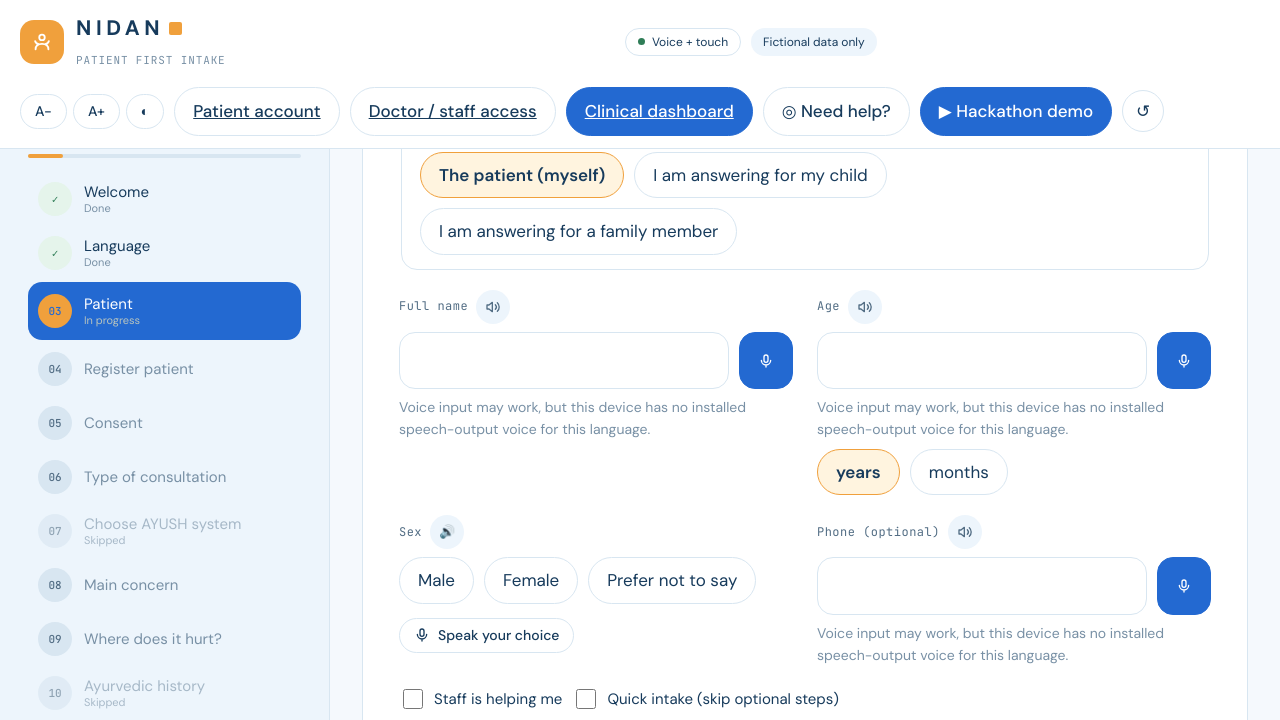
privacy: voice only after the patient is told where audio goes › asks first, declining keeps the mic off
(page scrolled)
What coordinates should you click on to do the following:
click the 1st button with class "mic-btn"
I would click on:
 (766, 361)
Its box is [739, 332, 793, 390].
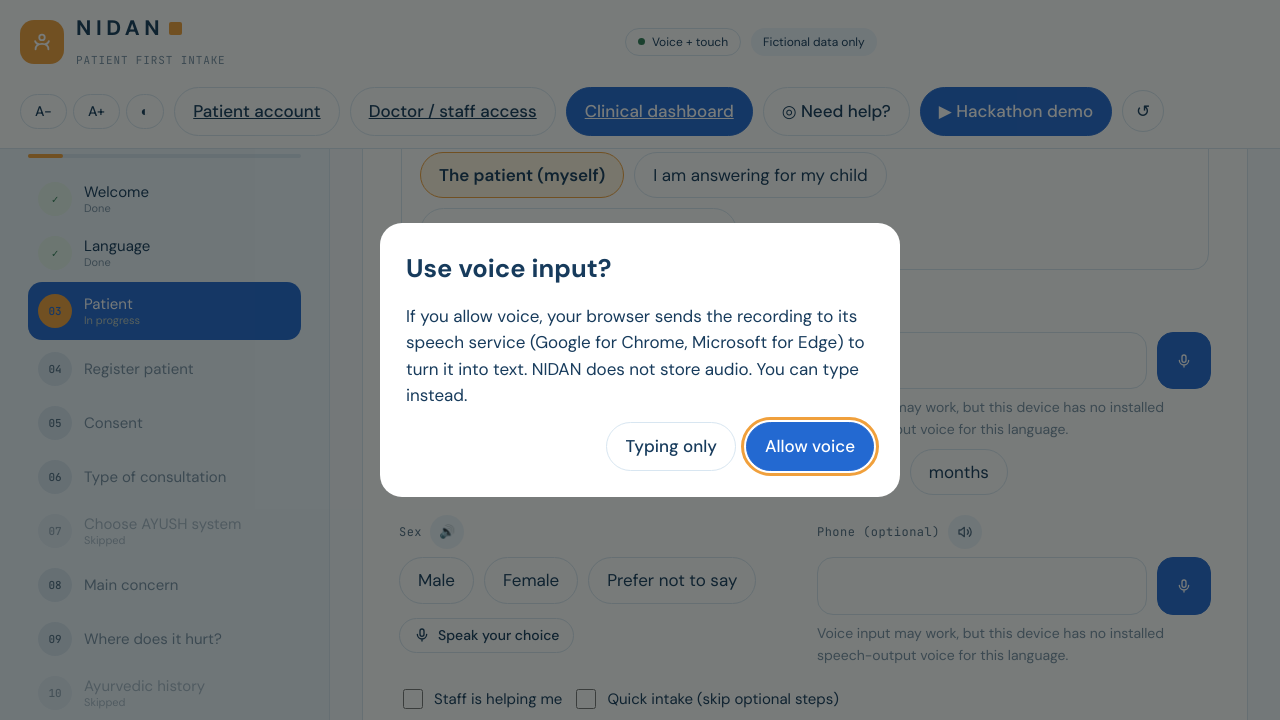
Now the text "Google for Chrome, Microsoft for Edge" is shown, box [406, 305, 864, 406]
What coordinates should you click on to do the following:
click the button "Typing only"
I would click on:
 (671, 446)
Its box is [606, 422, 736, 471].
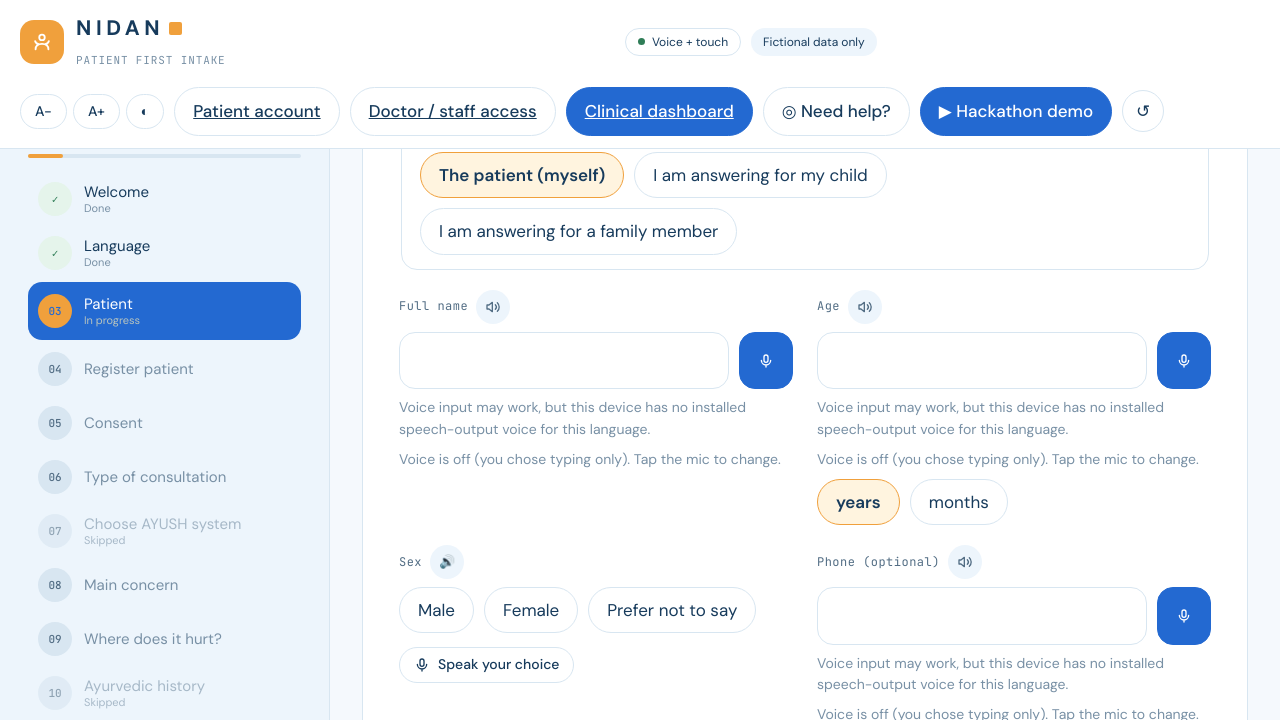
What coordinates should you click on to do the following:
click the 1st button with class "mic-btn"
I would click on:
 (766, 361)
Its box is [739, 332, 793, 390].
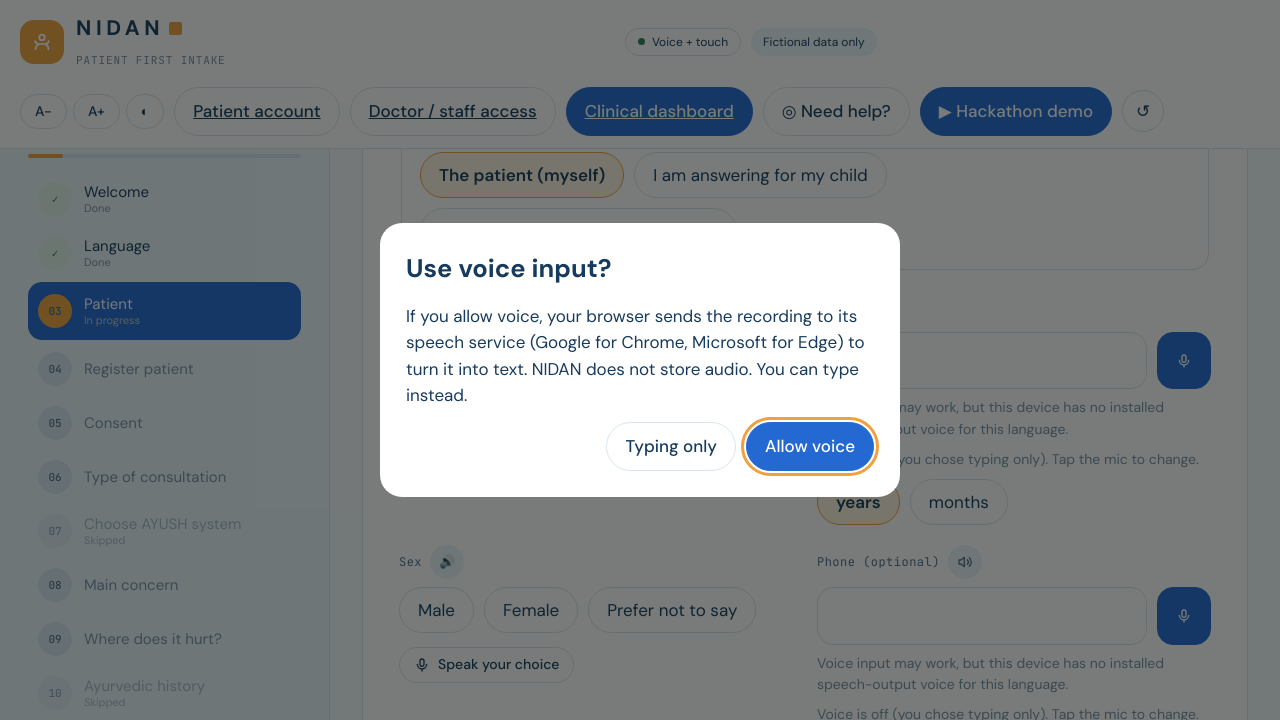
Now the button "Allow voice" is shown, box [746, 422, 874, 471]
